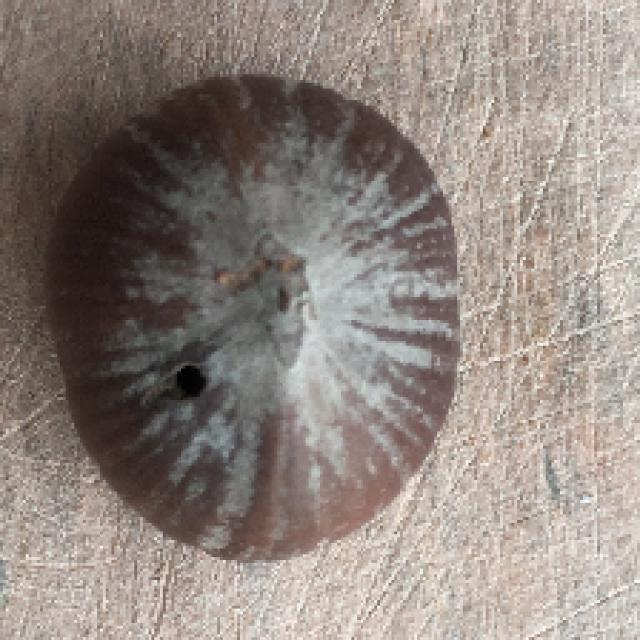damagedHazelnut: (42, 73, 468, 562)
